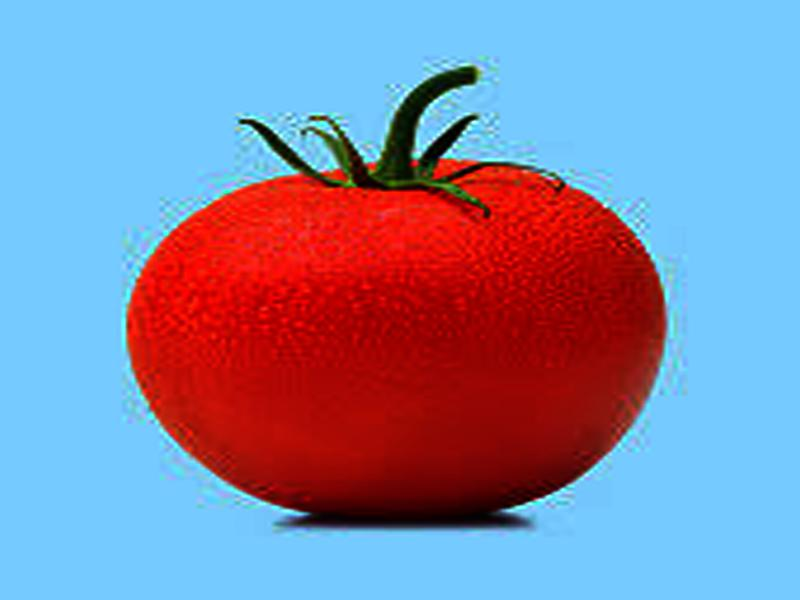Tomato: (126, 162, 663, 512)
